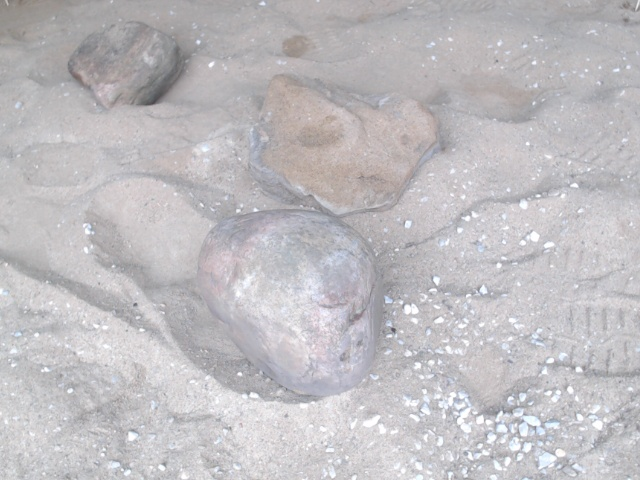rock: (198, 209, 381, 397), (247, 73, 440, 215), (67, 20, 183, 108)
